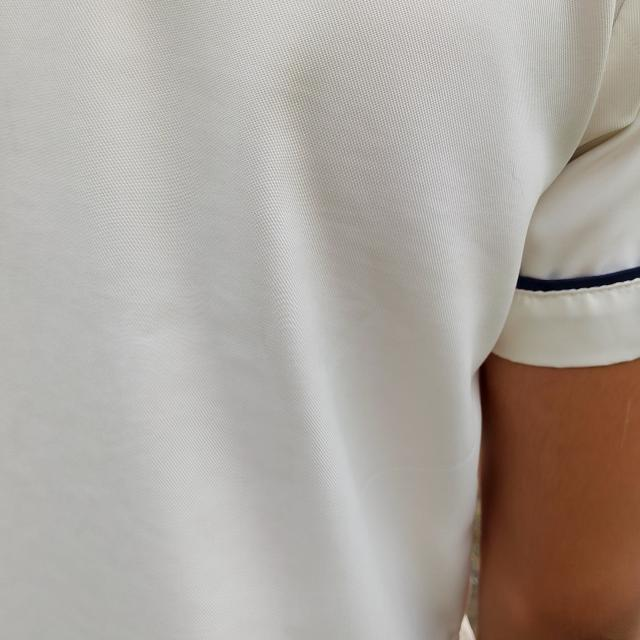education_male_uniform: (1, 1, 640, 426)
